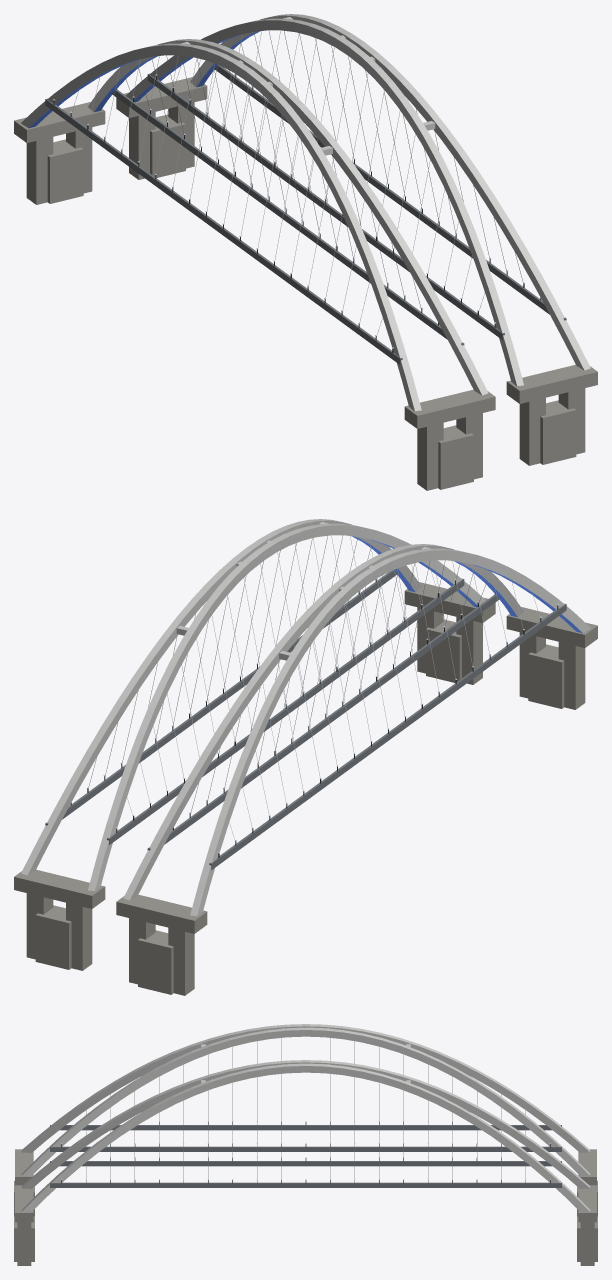
3 views of the same model, one above another, from view 1: azimuth 30°, elevation 25°; view 2: azimuth 150°, elevation 25°; view 3: azimuth 270°, elevation 25° (orthographic). The views are drawn at different scales.
Parts seen in each view (by area): view 1: i74_lod0; view 2: i74_lod0; view 3: i74_lod0.
Part boxes in pixels (<box>): i74_lod0: <box>14,14,597,490</box>; i74_lod0: <box>14,519,597,995</box>; i74_lod0: <box>14,1024,597,1265</box>.
Size of what is drawn, in the model's own units: 64.6 by 91.6 by 251.
